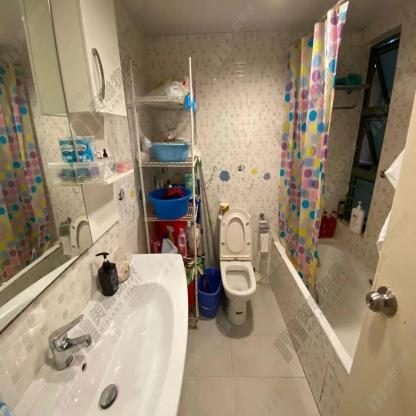Bathtub: (267, 236, 377, 416)
Toilet: (218, 205, 256, 326)
Toilet Sink: (8, 252, 191, 416)
